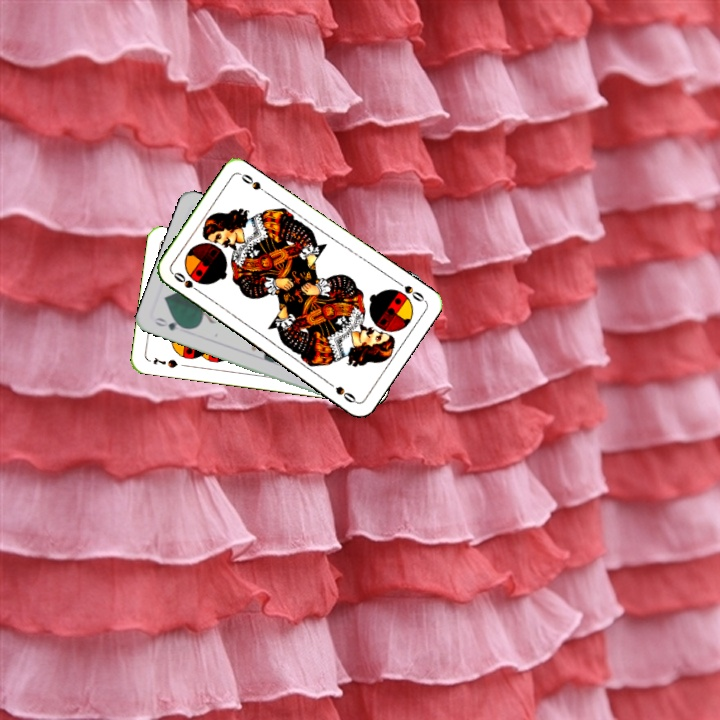GO: (151, 313, 190, 333)
S7: (149, 353, 180, 370)
SO: (169, 268, 205, 296), (392, 277, 428, 304)
